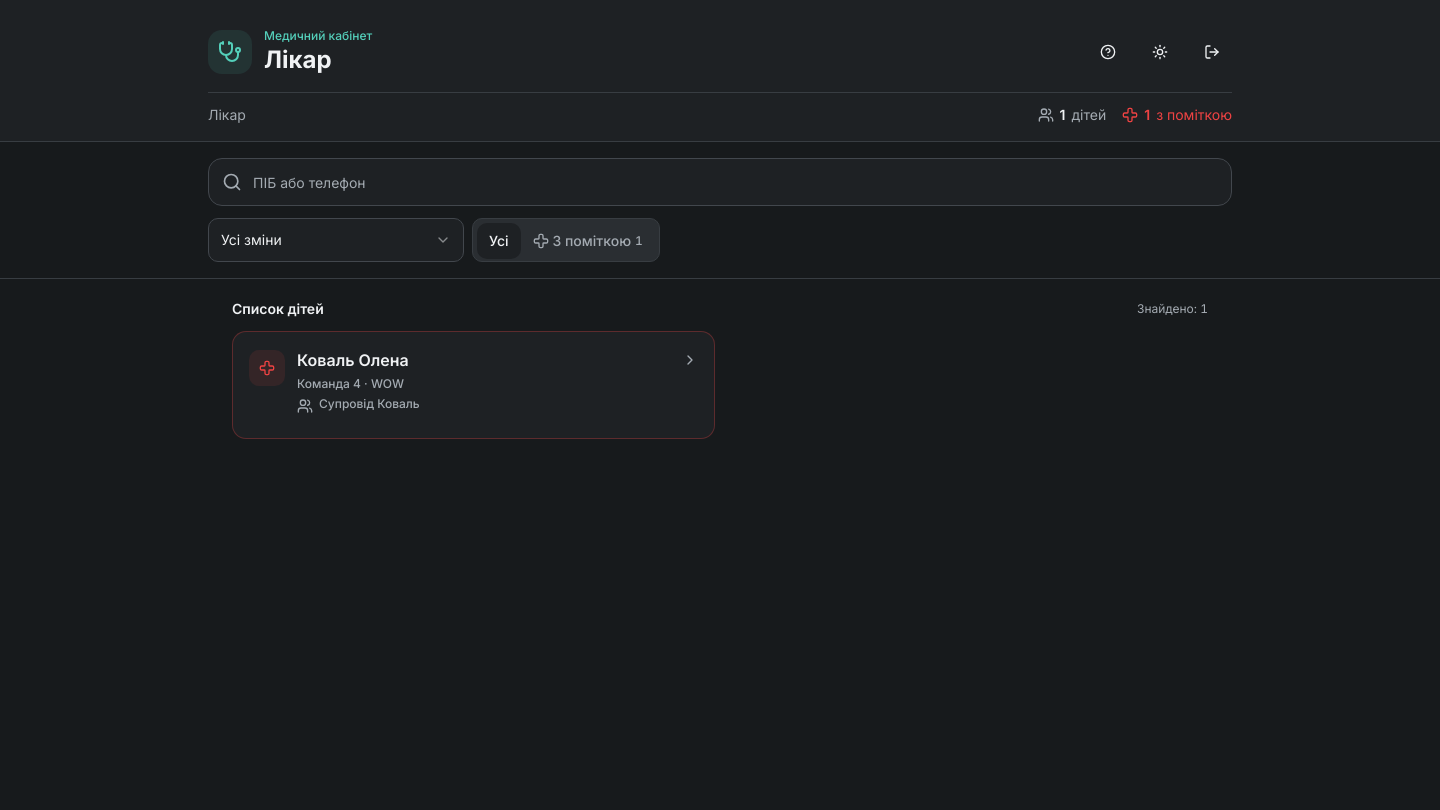
Test: doctor workflow › preserves the draft when a concurrent doctor edit conflicts
Click the button "Коваль Олена Команда 4 · WOW Супровід Коваль" at (267, 368), box [232, 331, 715, 439]
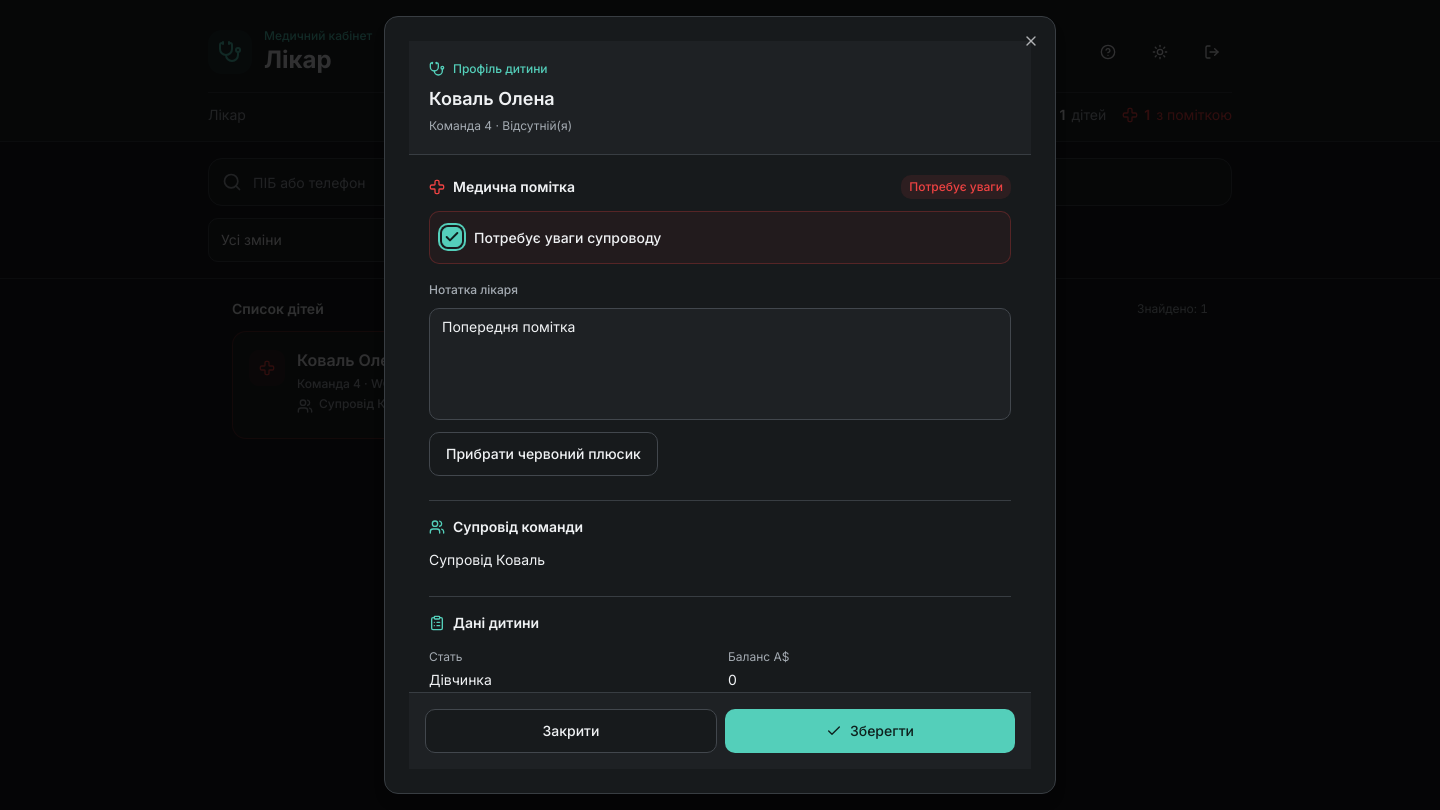
Replace the text in the text box labelled "Нотатка лікаря" with "Мій текст" at (720, 364), box [429, 308, 1011, 420]
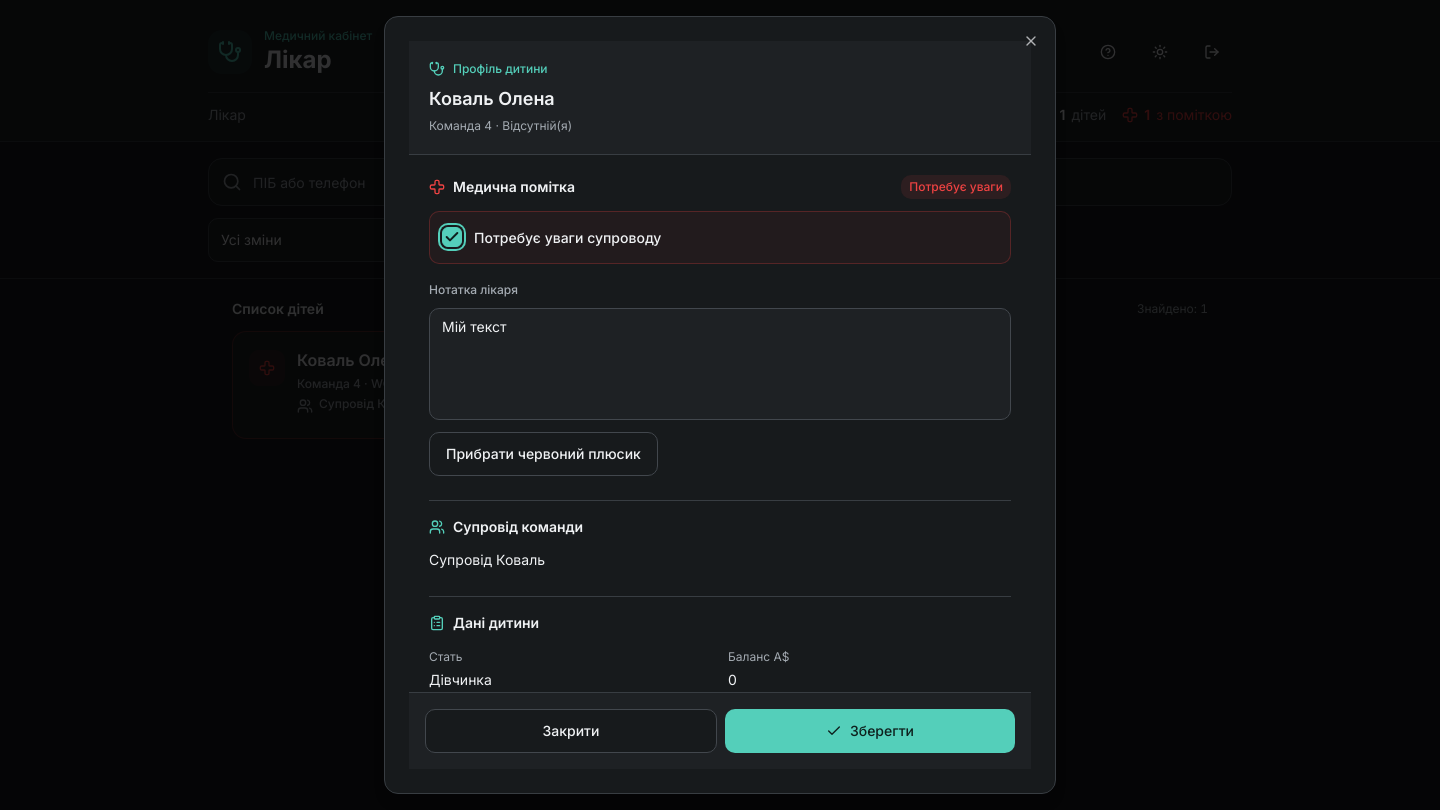
Click the button "Зберегти" at (870, 731), box [725, 709, 1015, 753]
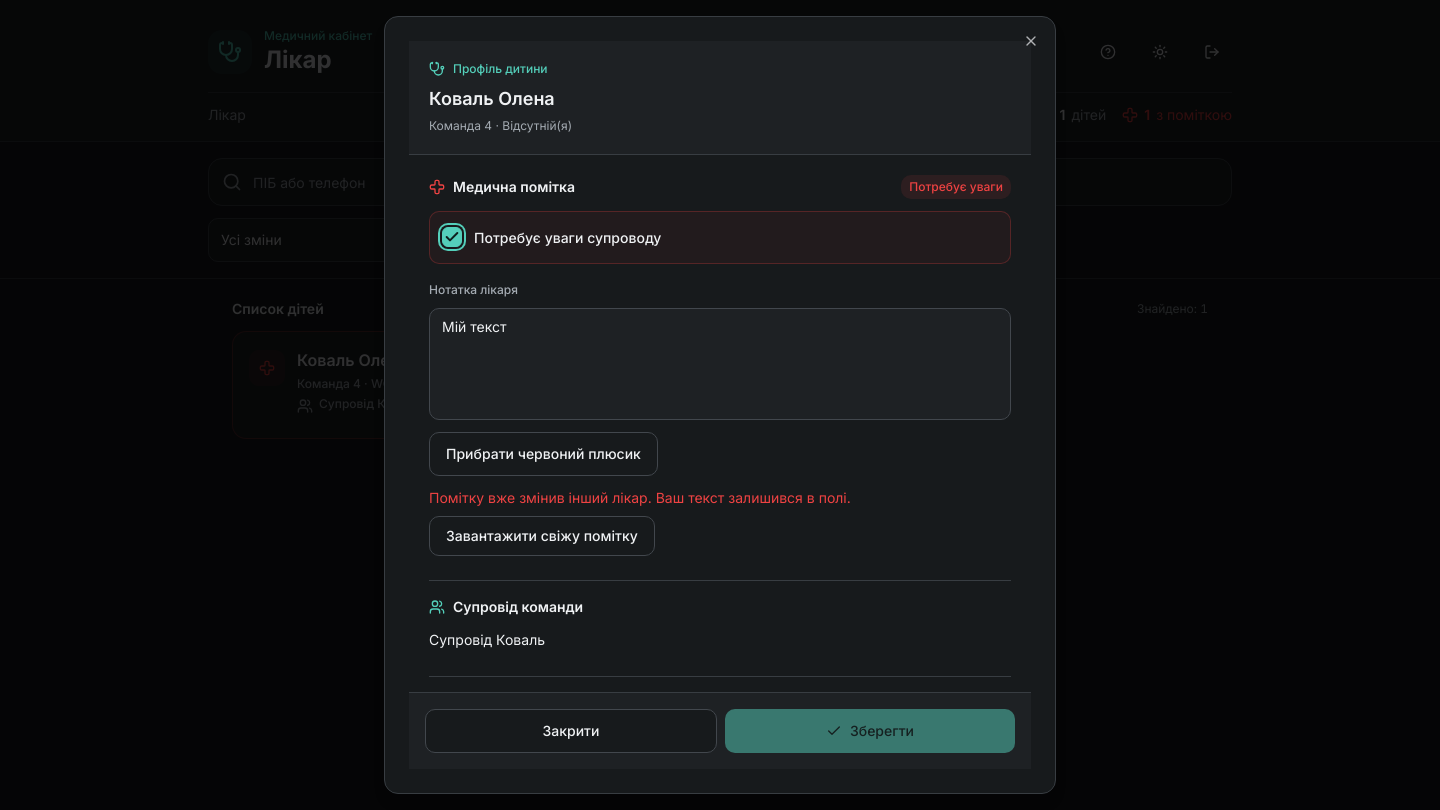
Result: the button "Зберегти" is disabled at [725, 709, 1015, 753]
